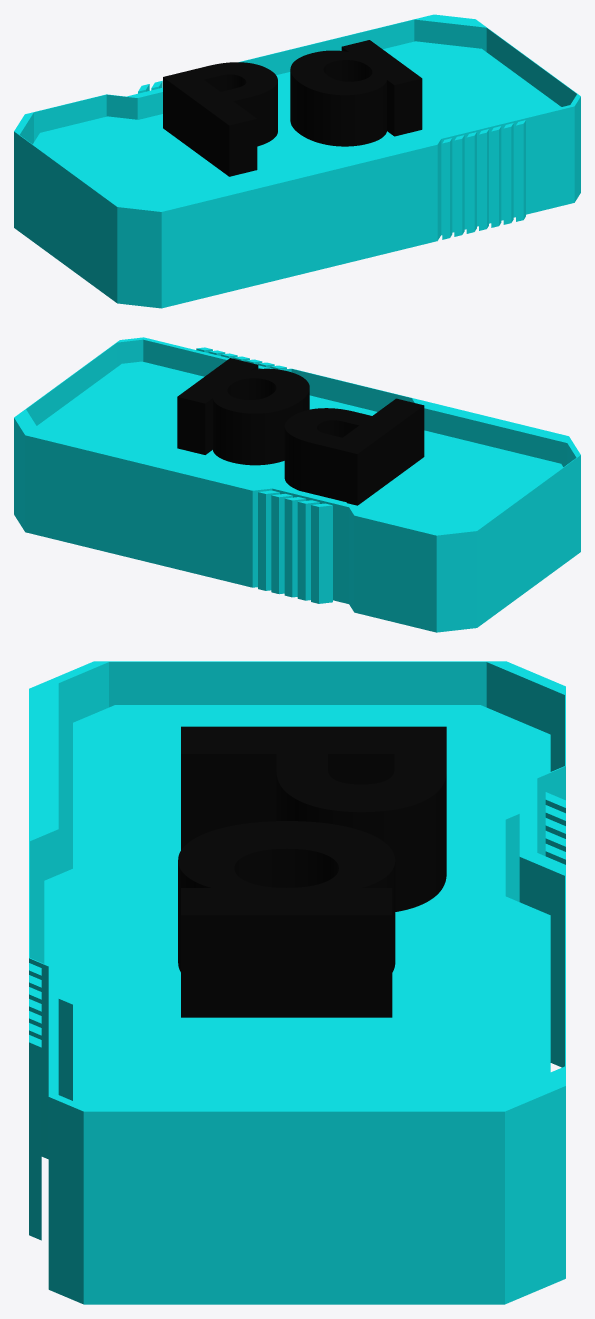
Rendered from 15.HurufPa.glb.
3 views of the same model, one above another, from view 1: azimuth 30°, elevation 25°; view 2: azimuth 150°, elevation 25°; view 3: azimuth 270°, elevation 25° (orthographic). The views are drawn at different scales.
Visible parts, largest first — view 1: Curve.249, Curve.243, Curve.258, Curve.257, Curve.251, Curve.254, Curve.250, Curve.252, Curve.255, Curve.253, Curve.256; view 2: Curve.249, Curve.243, Curve.257, Curve.258, Curve.248, Curve.247, Curve.246, Curve.244, Curve.245; view 3: Curve.249, Curve.243, Curve.258, Curve.257, Curve.256.
Boxes of the visible parts, <box> form: Curve.249: <box>14,14,580,308</box>; Curve.243: <box>33,41,560,207</box>; Curve.258: <box>290,40,422,146</box>; Curve.257: <box>163,62,277,176</box>; Curve.251: <box>454,135,464,236</box>; Curve.254: <box>491,126,501,227</box>; Curve.250: <box>442,138,452,239</box>; Curve.252: <box>466,132,476,233</box>; Curve.255: <box>503,123,513,224</box>; Curve.253: <box>479,129,488,230</box>; Curve.256: <box>516,120,525,221</box>; Curve.249: <box>14,337,580,632</box>; Curve.243: <box>37,361,563,533</box>; Curve.257: <box>284,398,424,505</box>; Curve.258: <box>177,358,309,465</box>; Curve.248: <box>311,503,332,603</box>; Curve.247: <box>297,500,319,600</box>; Curve.246: <box>284,497,306,597</box>; Curve.244: <box>258,490,279,590</box>; Curve.245: <box>271,493,292,594</box>; Curve.249: <box>29,661,565,1304</box>; Curve.243: <box>44,705,550,1110</box>; Curve.258: <box>178,821,395,1017</box>; Curve.257: <box>181,726,446,911</box>; Curve.256: <box>29,1035,41,1240</box>.
Bounding box in the file's own units: 0.2966 × 0.0794 × 0.1496.
